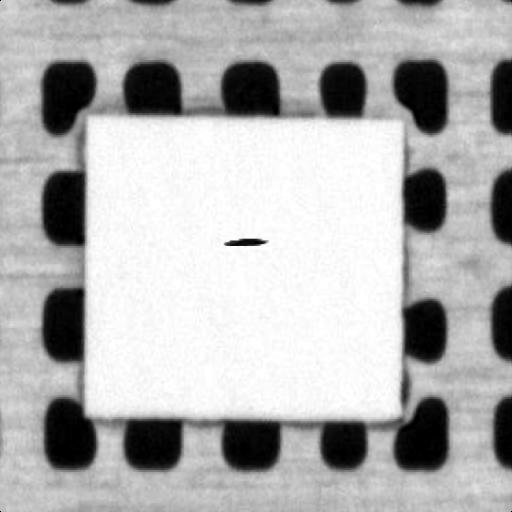DIE_INK: (292, 176, 357, 185)
